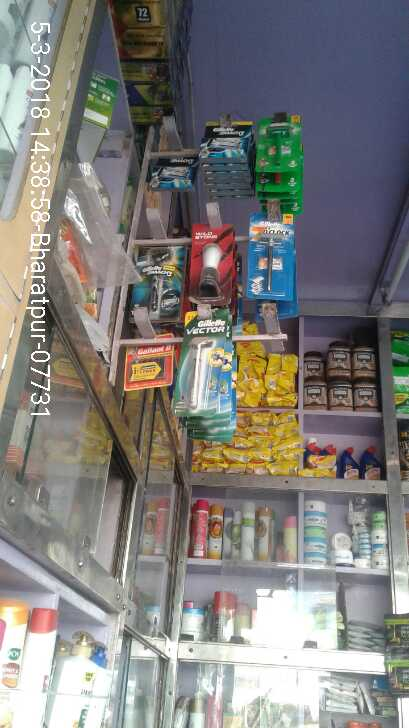gillette: (179, 305, 237, 433), (250, 209, 304, 306), (258, 106, 304, 193), (137, 241, 182, 316), (199, 118, 252, 171), (144, 153, 189, 187)
